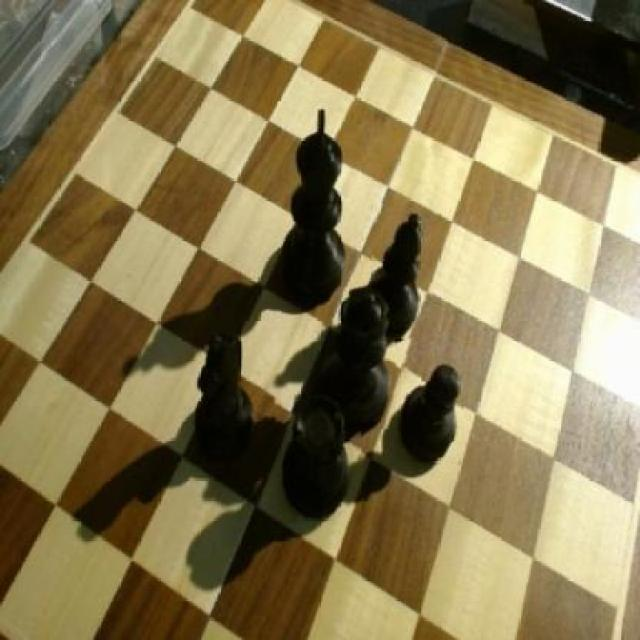bishop: (371, 205, 435, 339)
black-bishop: (278, 100, 354, 300)
black-king: (196, 322, 268, 470)
black-knight: (399, 357, 466, 464)
black-pawn: (322, 285, 398, 432)
black-queen: (277, 392, 364, 524)
